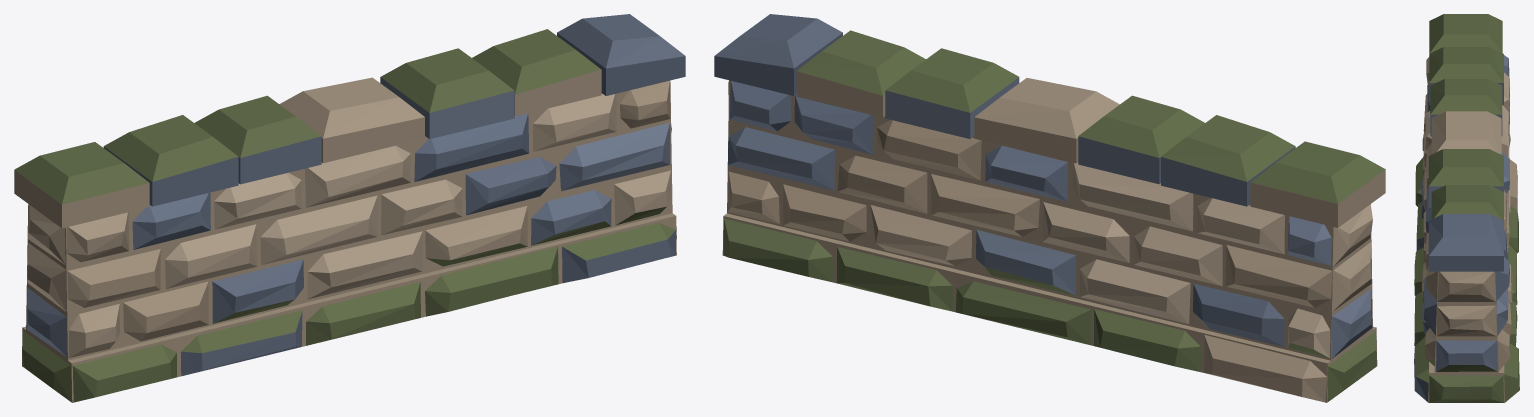
Rendered from low-stone-wall-8a8ea3.glb.
The picture shows the model from 3 angles, left to right: view 1: azimuth 30°, elevation 25°; view 2: azimuth 150°, elevation 25°; view 3: azimuth 270°, elevation 25°; orthographic projection. The views are drawn at different scales.
Parts seen in each view (by area): view 1: stone-wall; view 2: stone-wall; view 3: stone-wall.
Part boxes in pixels (x1,y1,x2,y2): stone-wall: [14, 14, 685, 402]; stone-wall: [714, 14, 1385, 402]; stone-wall: [1414, 14, 1519, 402].
Bounding box in the file's own units: 2 × 0.6806 × 0.3845.
